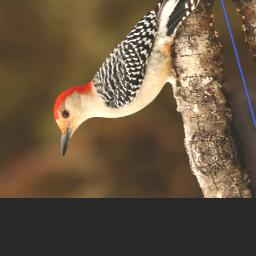Woodpecker: (18, 0, 246, 157)
